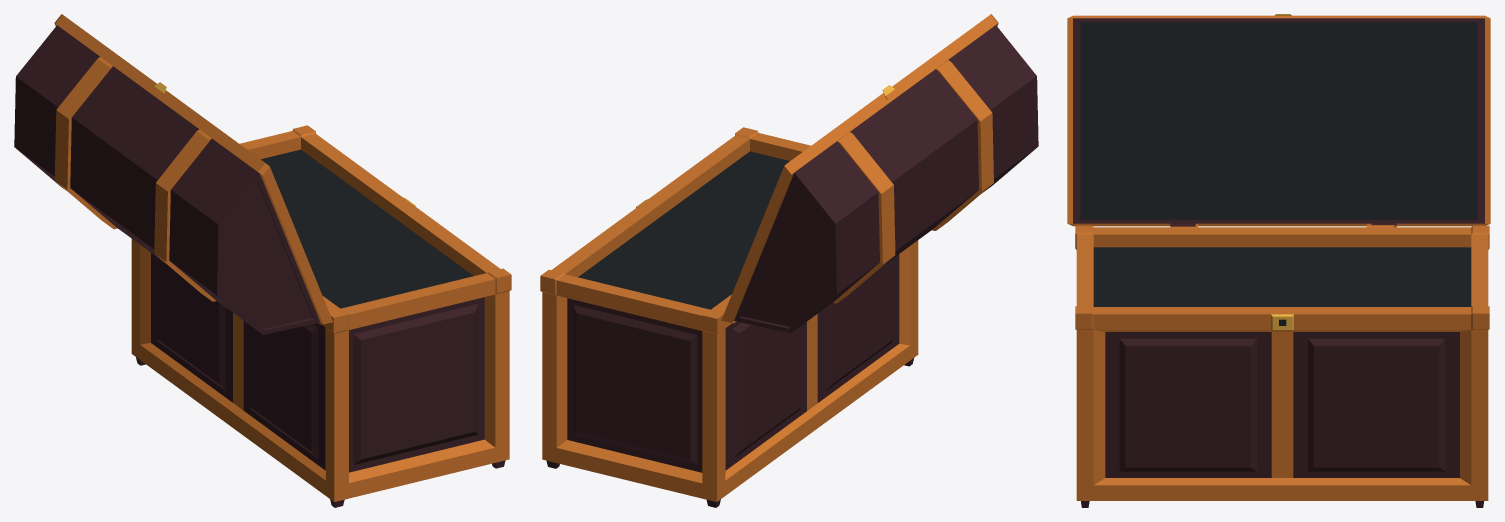
Rendered from chest.fbx.
The picture shows the model from 3 angles, left to right: view 1: azimuth 30°, elevation 25°; view 2: azimuth 150°, elevation 25°; view 3: azimuth 270°, elevation 25°; orthographic projection. The views are drawn at different scales.
Visible parts, largest first — view 1: Cube_Cube.001; view 2: Cube_Cube.001; view 3: Cube_Cube.001.
Boxes of the visible parts, x1,y1,x2,y2 form: Cube_Cube.001: (14, 14, 511, 507); Cube_Cube.001: (540, 14, 1038, 507); Cube_Cube.001: (1067, 14, 1490, 507).
Size of the model in its own units: 342 by 401 by 411.
